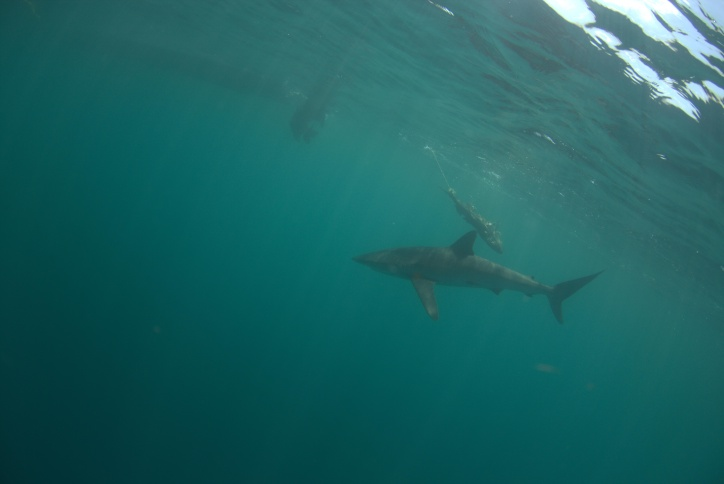Sedoso: (346, 226, 612, 333)
